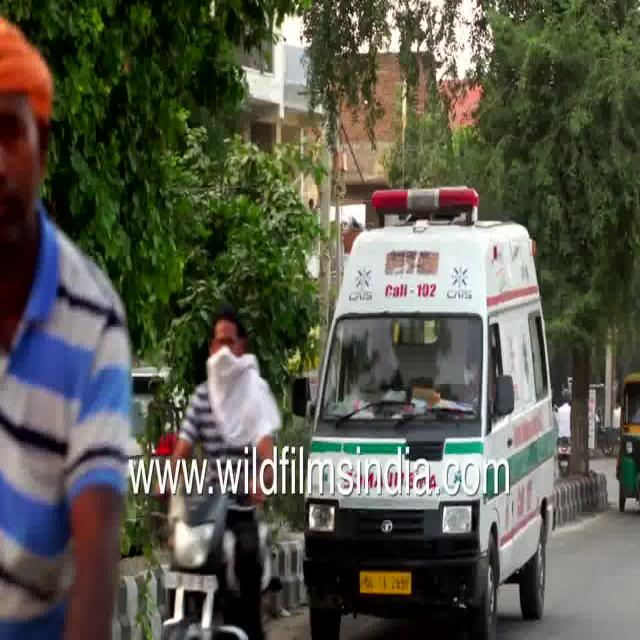ambulance: (316, 165, 557, 452)
